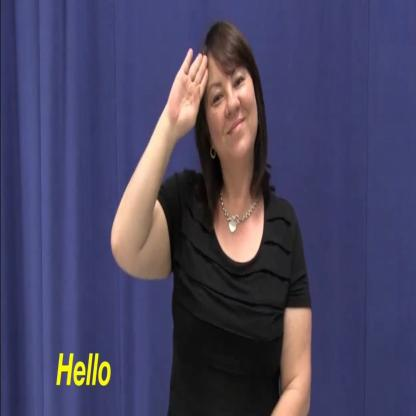Hello: (112, 18, 316, 416)
